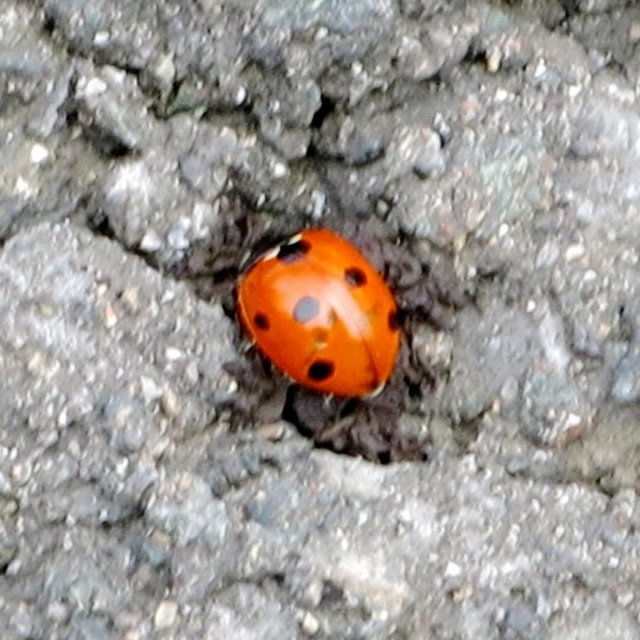Ladybug: (238, 228, 399, 399)
